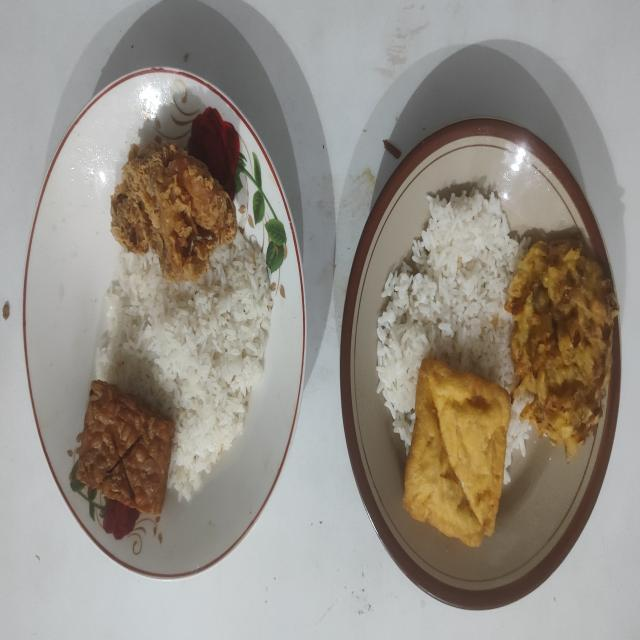nasi_putih: (95, 234, 273, 501), (376, 189, 523, 448), (504, 394, 534, 485)
tahu_goreng: (403, 358, 511, 546)
tempe_goreng: (76, 380, 175, 515)
